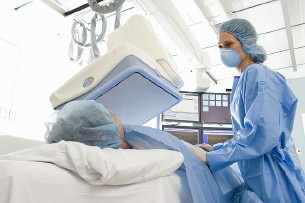Mask: (215, 37, 248, 70)
